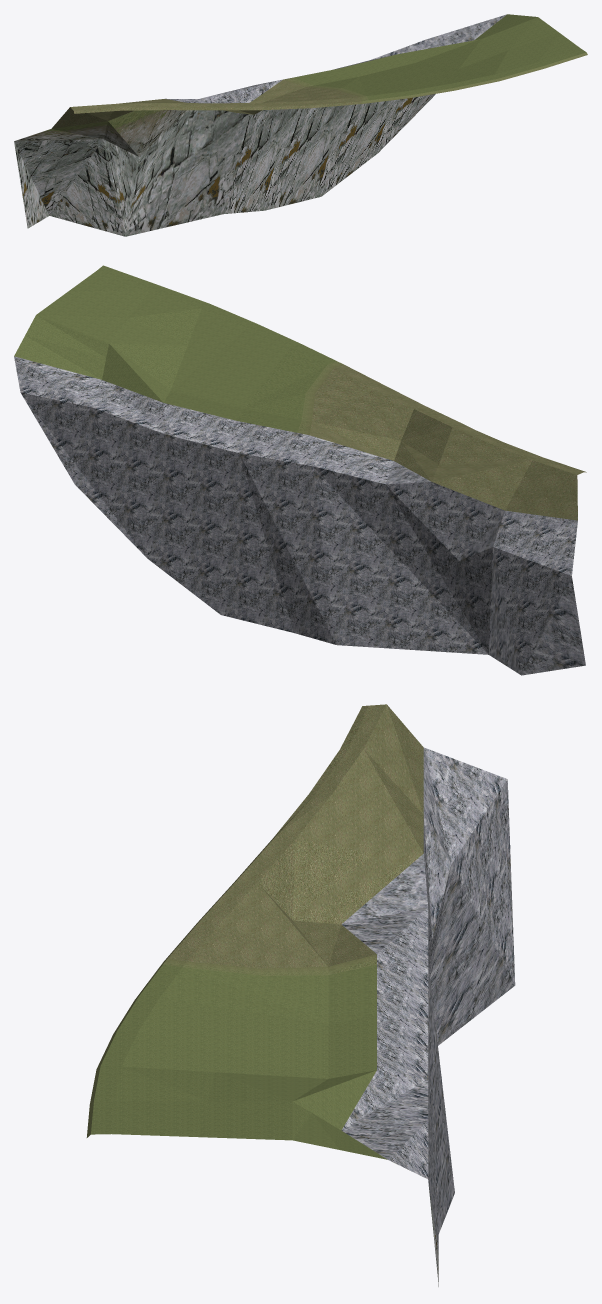
Rendered from cuntwland20b.obj.
The picture shows the model from 3 angles, top to bottom: view 1: azimuth 30°, elevation 25°; view 2: azimuth 150°, elevation 25°; view 3: azimuth 270°, elevation 25°; orthographic projection. The views are drawn at different scales.
Visible parts, largest first — view 1: cuntwland20b; view 2: cuntwland20b; view 3: cuntwland20b.
Part boxes in pixels (box(x1,y1,x2,y2)): cuntwland20b: box(14, 14, 587, 236); cuntwland20b: box(14, 265, 586, 675); cuntwland20b: box(86, 704, 515, 1286).
Size of the model in its own units: 261 by 87.33 by 103.
6 materials, 6 textured.
